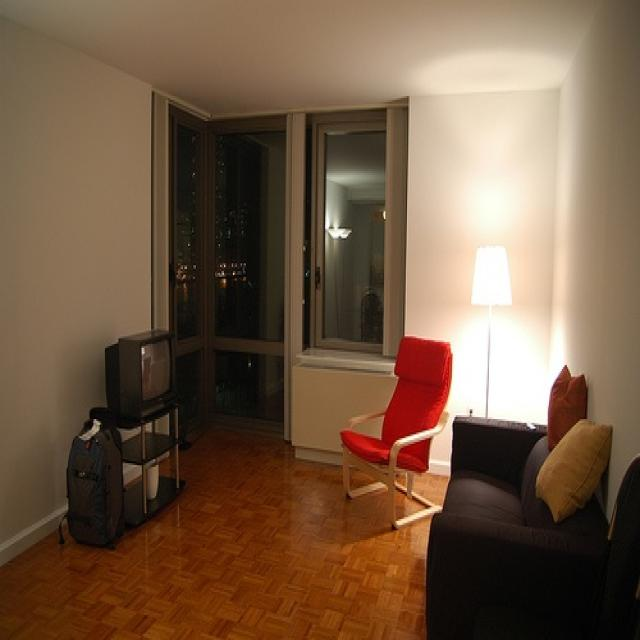chair: (339, 332, 453, 530)
sofa: (425, 415, 608, 638)
tvmonitor: (101, 326, 177, 426)
